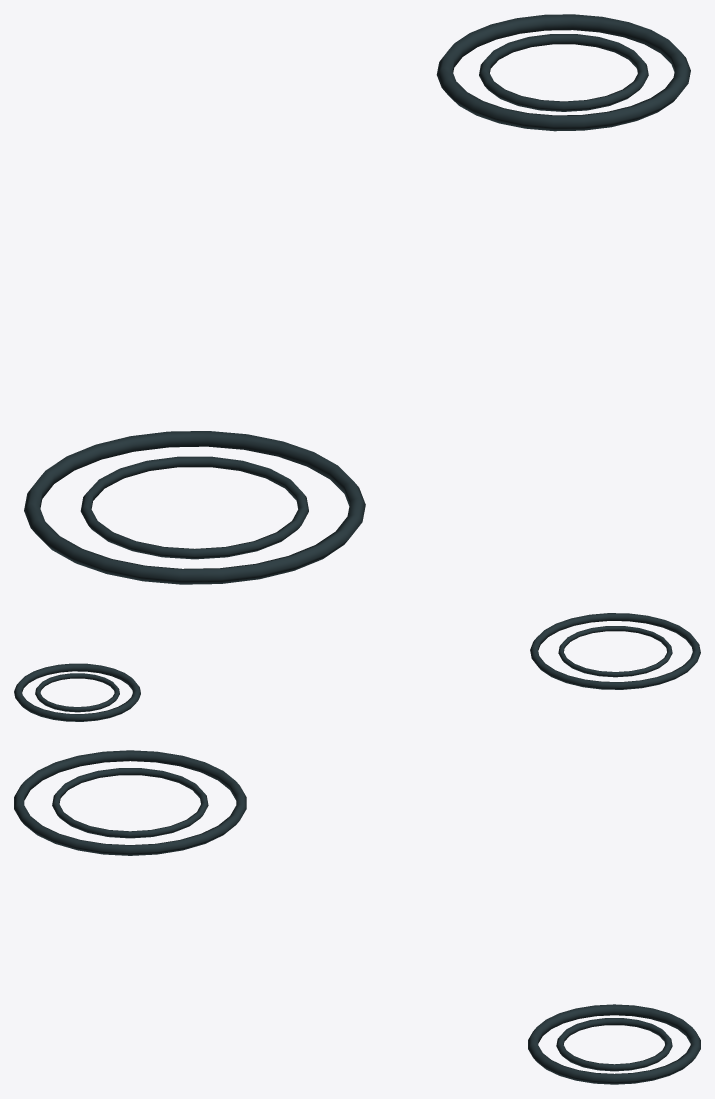
File: mia-puddle.glb
3 views of the same model, one above another, from view 1: azimuth 30°, elevation 25°; view 2: azimuth 150°, elevation 25°; view 3: azimuth 270°, elevation 25° (orthographic). The views are drawn at different scales.
Parts seen in each view (by area): view 1: Body_puddle-rim; view 2: Body_puddle-rim; view 3: Body_puddle-rim.
Part boxes in pixels (x1,y1,x2,y2): Body_puddle-rim: (24,14,690,584); Body_puddle-rim: (14,613,700,721); Body_puddle-rim: (14,750,700,1084).
Size of what is drawn, in the model's own units: 0.801 by 0.0114 by 0.7095.
